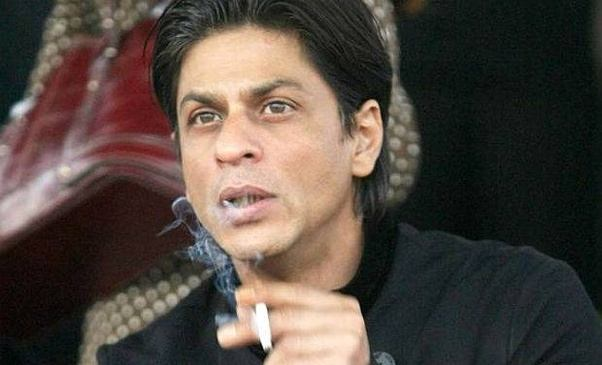cigarette: (248, 292, 278, 353)
